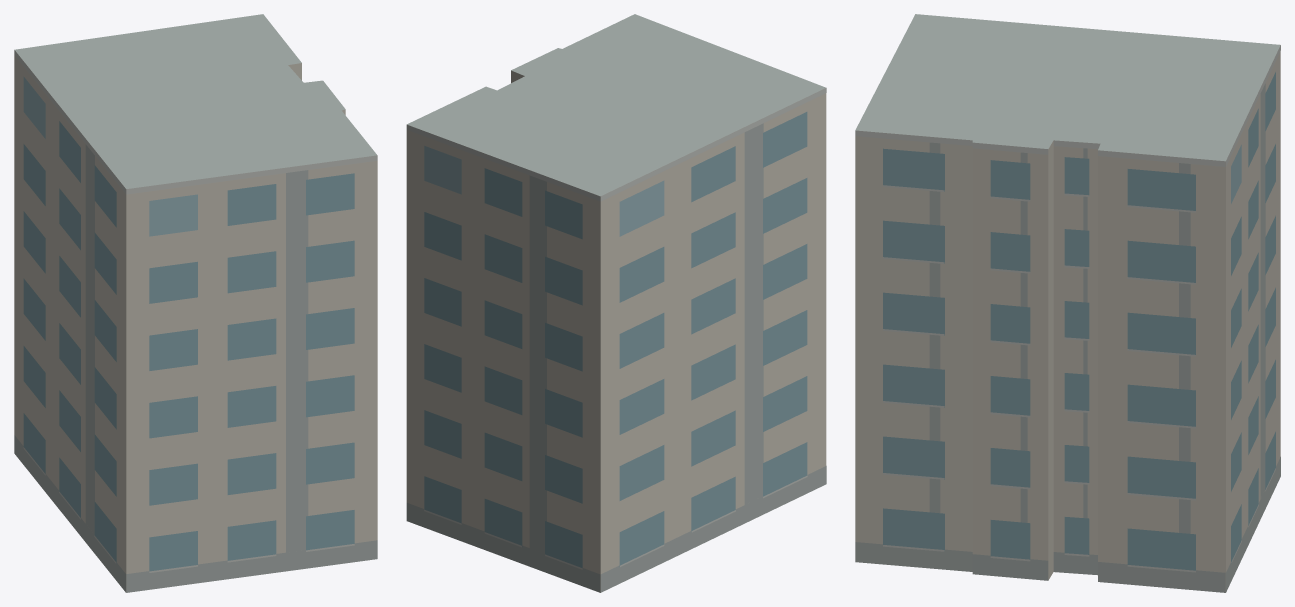
Rendered from survey-upis-33017036.glb.
The picture shows the model from 3 angles, left to right: view 1: azimuth 30°, elevation 25°; view 2: azimuth 150°, elevation 25°; view 3: azimuth 270°, elevation 25°; orthographic projection. The views are drawn at different scales.
Parts seen in each view (by area): view 1: survey-upis-33017036.tmp; view 2: survey-upis-33017036.tmp; view 3: survey-upis-33017036.tmp.
Part boxes in pixels (<box>): survey-upis-33017036.tmp: <box>14,14,377,592</box>; survey-upis-33017036.tmp: <box>406,14,826,592</box>; survey-upis-33017036.tmp: <box>855,14,1280,592</box>.
Size of the model in its own units: 13.4 by 18.3 by 16.36.
